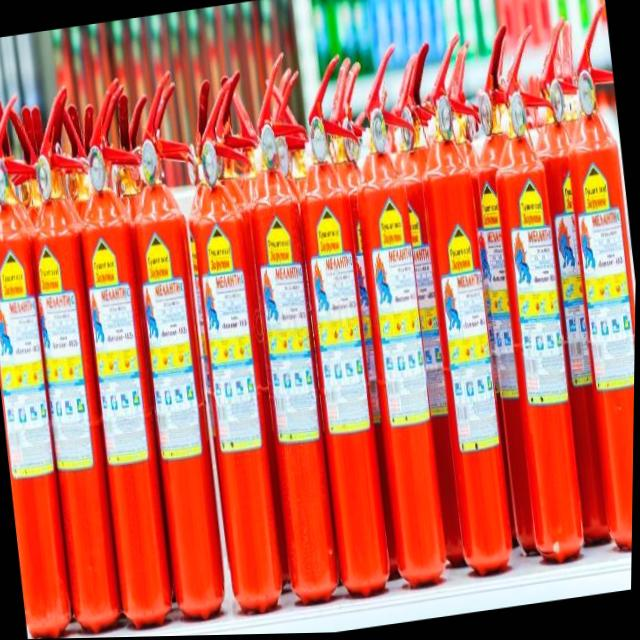FireExtinguisher: (55, 70, 203, 639), (222, 49, 366, 616), (108, 64, 250, 629), (274, 46, 415, 601), (165, 70, 306, 624), (469, 22, 610, 573), (6, 80, 144, 640), (333, 37, 470, 600), (397, 30, 535, 586), (505, 14, 634, 557), (452, 19, 575, 560), (375, 44, 490, 571), (541, 2, 640, 565), (0, 85, 95, 640)
